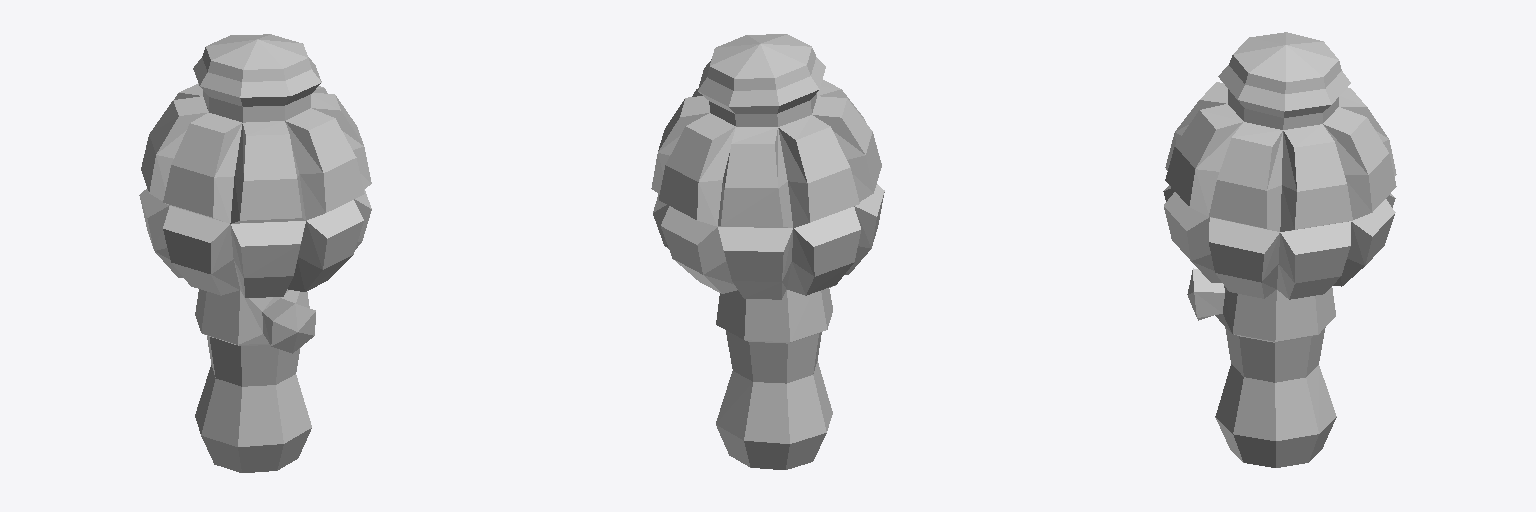
File: Cluster Bomb.obj
The picture shows the model from 3 angles: view 1: azimuth 30°, elevation 25°; view 2: azimuth 150°, elevation 25°; view 3: azimuth 270°, elevation 25°; orthographic projection.
Parts seen in each view (by area): view 1: Inst3D_RefRep.240; view 2: Inst3D_RefRep.240; view 3: Inst3D_RefRep.240.
Boxes of the visible parts, <box> form: Inst3D_RefRep.240: <box>139,34,371,472</box>; Inst3D_RefRep.240: <box>651,34,884,469</box>; Inst3D_RefRep.240: <box>1163,32,1396,467</box>.
Bounding box in the file's own units: 1.41 × 2.85 × 1.41.